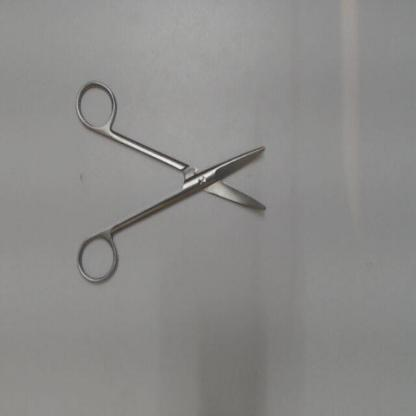Curved Mayo Scissors: (71, 74, 277, 291)
